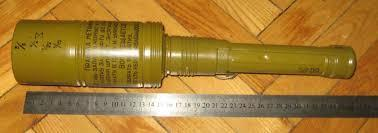RKG 3: (11, 18, 358, 89)
